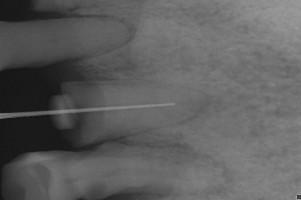Furcation Involvement: (152, 142, 236, 195), (75, 14, 135, 52), (175, 94, 212, 125)
